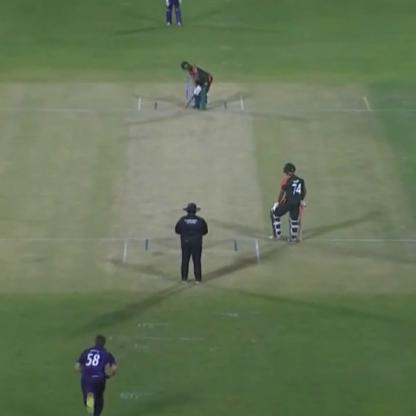bat: (182, 85, 200, 109)
pitch: (117, 93, 270, 275)
